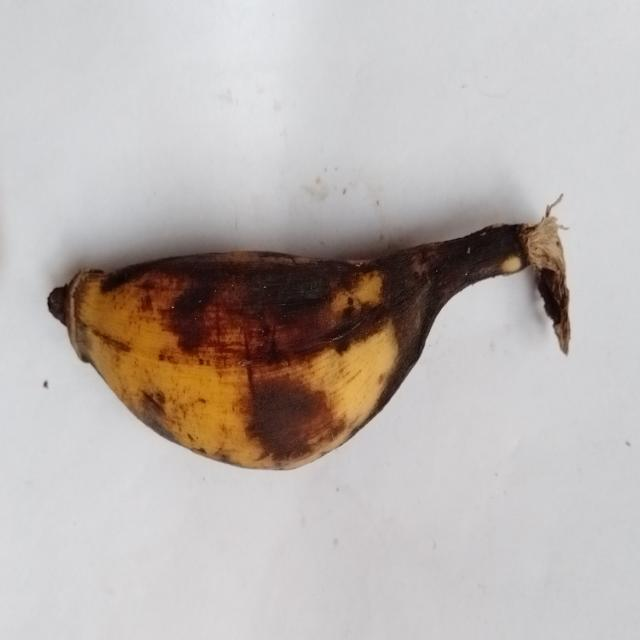banana: (49, 212, 569, 468)
